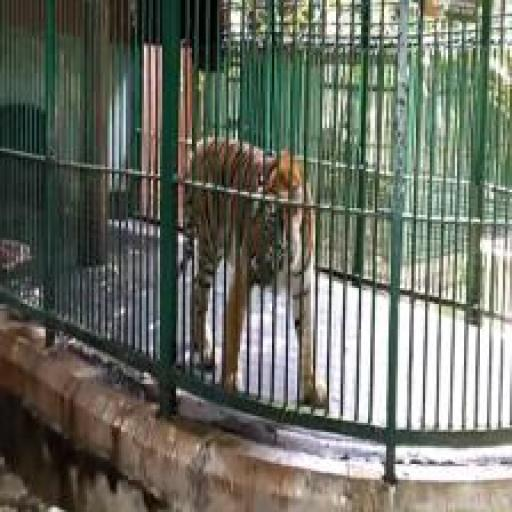Tiger: (174, 128, 323, 419)
